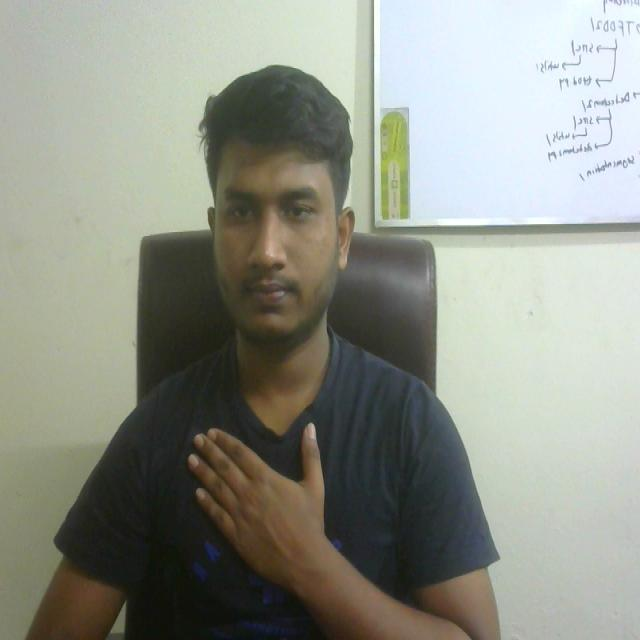E: (172, 399, 344, 593)
